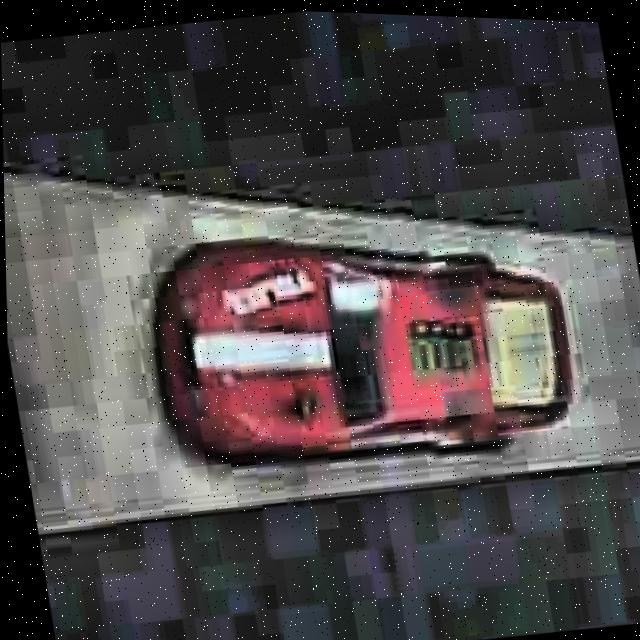car: (124, 185, 592, 505)
